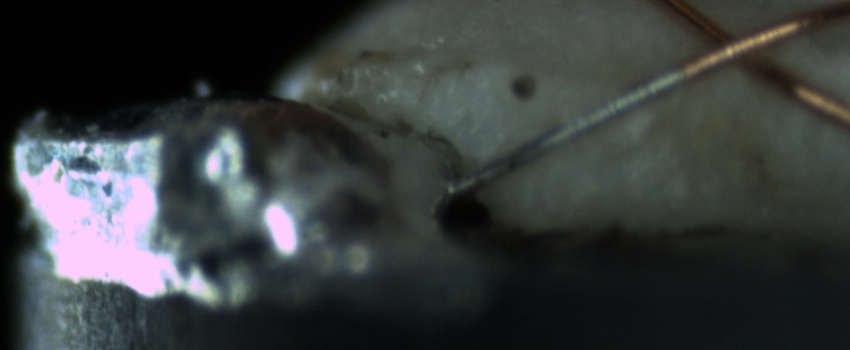CL: (683, 13, 787, 78)
TS: (440, 66, 689, 197)
